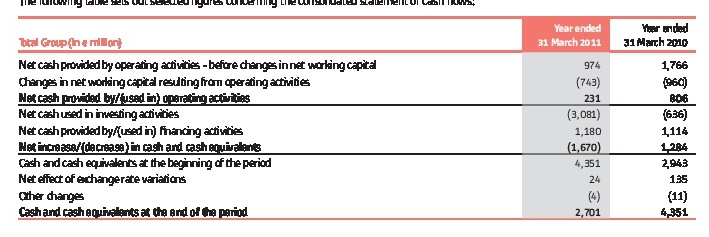table: (0, 0, 709, 237)
